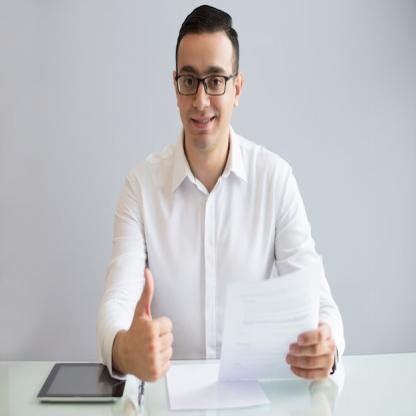thumb_up: (123, 259, 177, 386)
